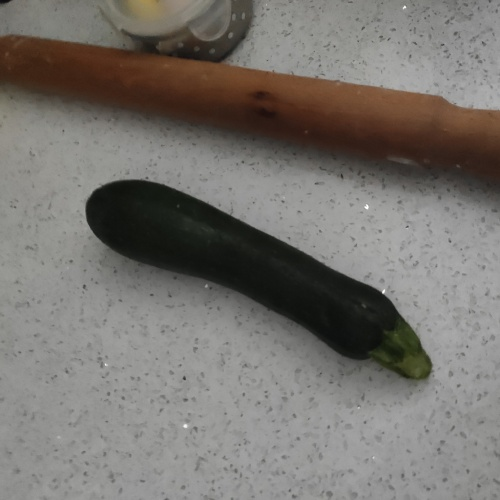zucchine: (84, 176, 448, 394)
